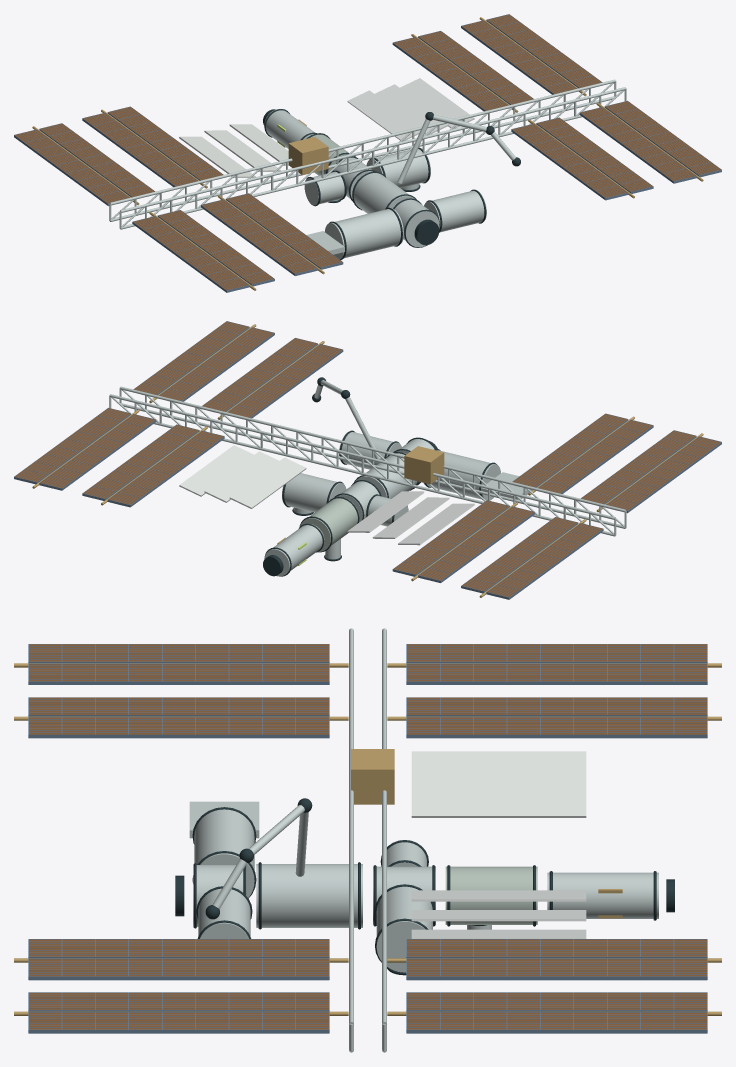
The model's file is iss.glb.
3 views of the same model, one above another, from view 1: azimuth 30°, elevation 25°; view 2: azimuth 150°, elevation 25°; view 3: azimuth 270°, elevation 25° (orthographic). The views are drawn at different scales.
Parts seen in each view (by area): view 1: legacy-solar-blanket (×16), solar, frame, thermal-control-radiator (×6), Kibo-pressurized-module, Columbus-laboratory, body, Destiny-laboratory, Tranquility-node, external-experiment-package, instruments, Zvezda-service-module (+5 smaller); view 2: legacy-solar-blanket (×16), solar, frame, thermal-control-radiator (×6), Tranquility-node, Zarya-functional-cargo-block, Kibo-pressurized-module, Zvezda-service-module, body, external-experiment-package, Destiny-laboratory, Columbus-laboratory (+3 smaller); view 3: legacy-solar-blanket (×16), solar, thermal-control-radiator (×6), Destiny-laboratory, Zvezda-service-module, frame, body, Zarya-functional-cargo-block, Kibo-pressurized-module, Tranquility-node, external-experiment-package, instruments (+5 smaller).
Boxes of the visible parts, <box> form: legacy-solar-blanket (×16): <box>15,14,720,290</box>; solar: <box>14,14,721,292</box>; frame: <box>109,79,626,229</box>; thermal-control-radiator (×6): <box>179,78,474,177</box>; Kibo-pressurized-module: <box>324,208,403,259</box>; Columbus-laboratory: <box>424,190,486,232</box>; body: <box>264,109,486,259</box>; Destiny-laboratory: <box>352,172,414,213</box>; Tranquility-node: <box>366,148,430,187</box>; external-experiment-package: <box>288,137,328,175</box>; instruments: <box>397,112,520,183</box>; Zvezda-service-module: <box>264,109,314,148</box>; legacy-solar-blanket (×16): <box>15,321,720,597</box>; solar: <box>14,321,721,599</box>; frame: <box>109,386,626,536</box>; thermal-control-radiator (×6): <box>179,445,474,545</box>; Tranquility-node: <box>282,473,346,512</box>; Zarya-functional-cargo-block: <box>300,498,359,551</box>; Kibo-pressurized-module: <box>423,450,500,500</box>; Zvezda-service-module: <box>264,524,324,576</box>; body: <box>265,430,496,576</box>; external-experiment-package: <box>404,446,444,484</box>; Destiny-laboratory: <box>355,452,417,498</box>; Columbus-laboratory: <box>339,432,401,469</box>; legacy-solar-blanket (×16): <box>29,644,706,1029</box>; solar: <box>28,644,707,1033</box>; thermal-control-radiator (×6): <box>411,751,586,938</box>; Destiny-laboratory: <box>256,864,362,927</box>; Zvezda-service-module: <box>547,872,658,918</box>; frame: <box>349,628,386,1052</box>; body: <box>192,807,656,975</box>; Zarya-functional-cargo-block: <box>445,866,537,924</box>; Kibo-pressurized-module: <box>194,807,254,897</box>; Tranquility-node: <box>376,886,432,972</box>; external-experiment-package: <box>351,749,394,804</box>; instruments: <box>205,798,312,919</box>.
Bounding box in the file's own units: 9.63 × 2.13 × 7.3.
